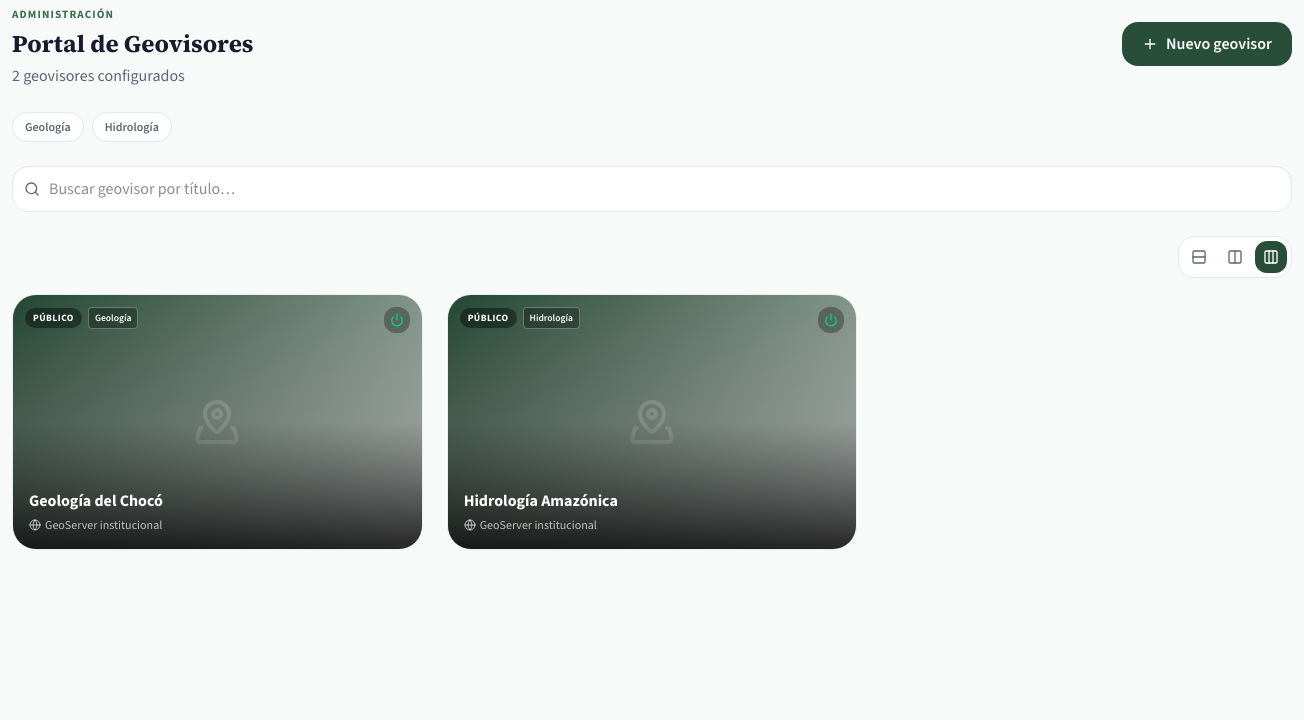
Test: GestionGeovisores — buscador y filtro por categoría › las píldoras de categoría filtran la lista y se pueden des-seleccionar
What coordinates should you click on to do the following:
click the button "Geología"
I would click on:
 (48, 127)
Its box is top-left (12, 112), bottom-right (84, 142).
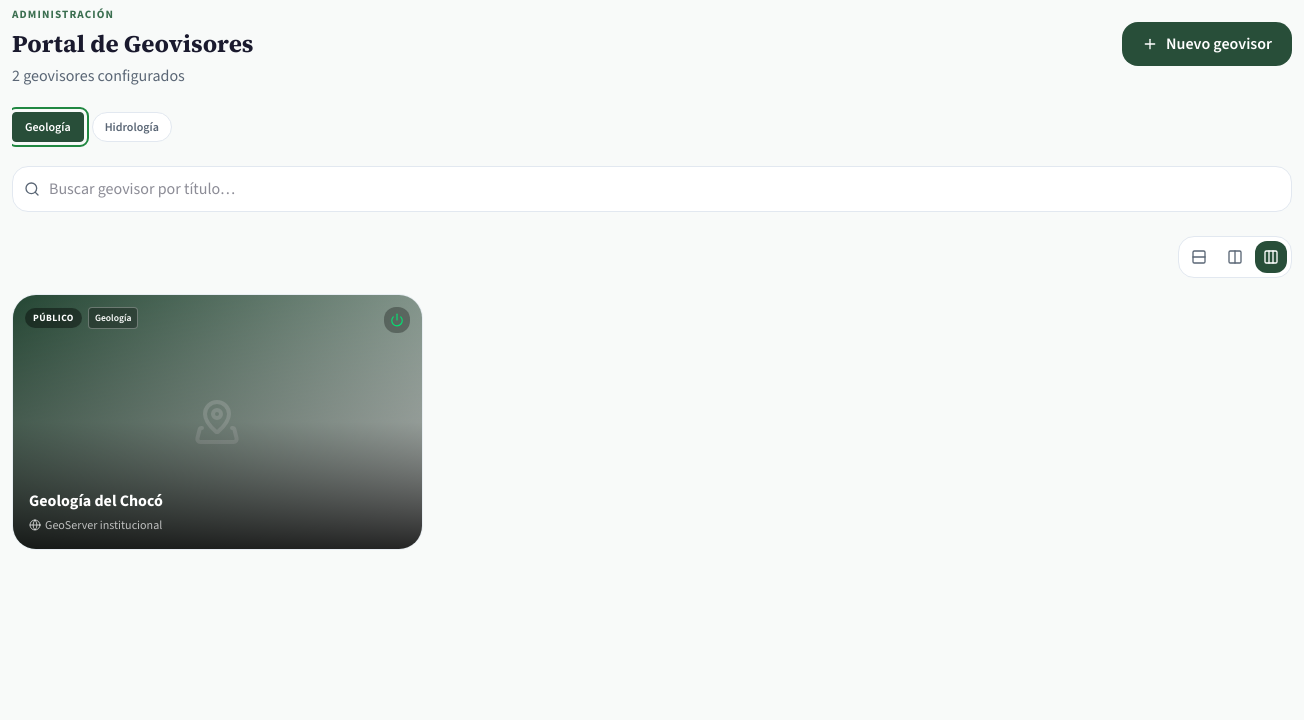
Expected: the text "Geología del Chocó" is shown, top-left (29, 490), bottom-right (163, 511)
Expected: the button "Hidrología Amazónica" is gone
What coordinates should you click on to do the following:
click the button "Geología"
I would click on:
 (48, 127)
Its box is top-left (12, 112), bottom-right (84, 142).
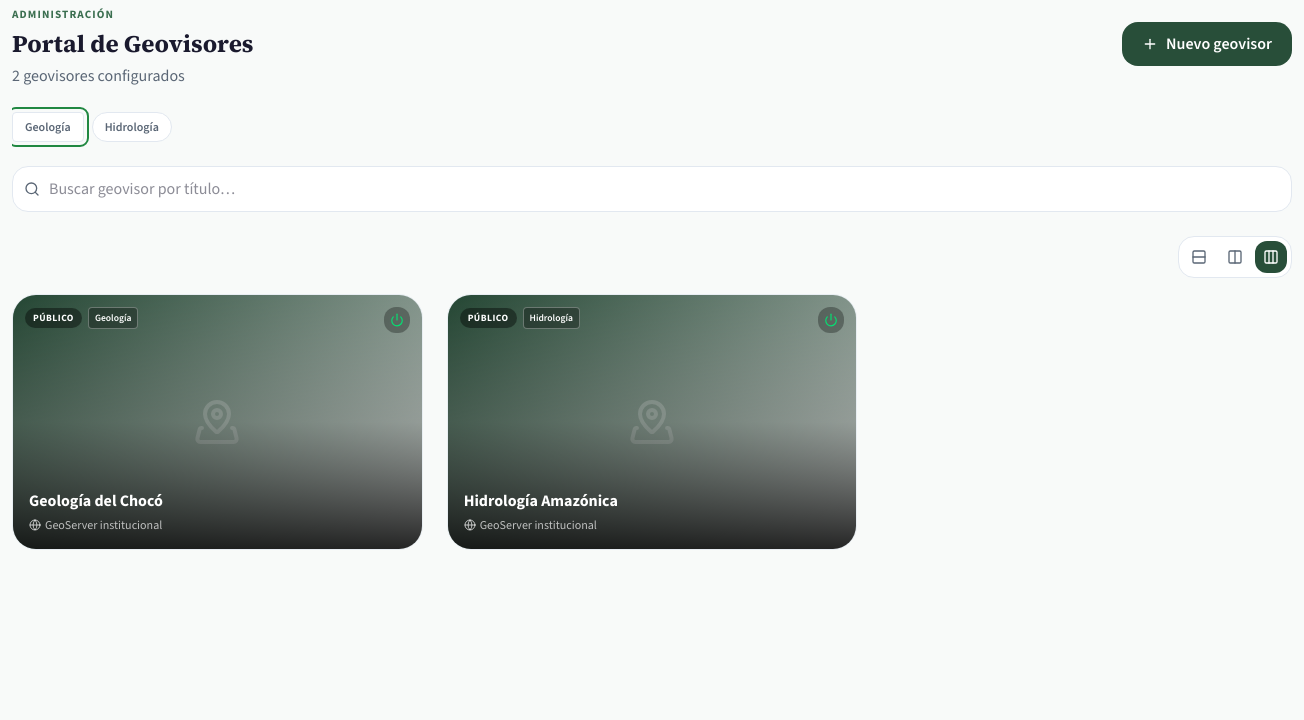
Expected: the text "Geología del Chocó" is shown, top-left (29, 490), bottom-right (163, 511)
Expected: the text "Hidrología Amazónica" is shown, top-left (464, 490), bottom-right (618, 511)
